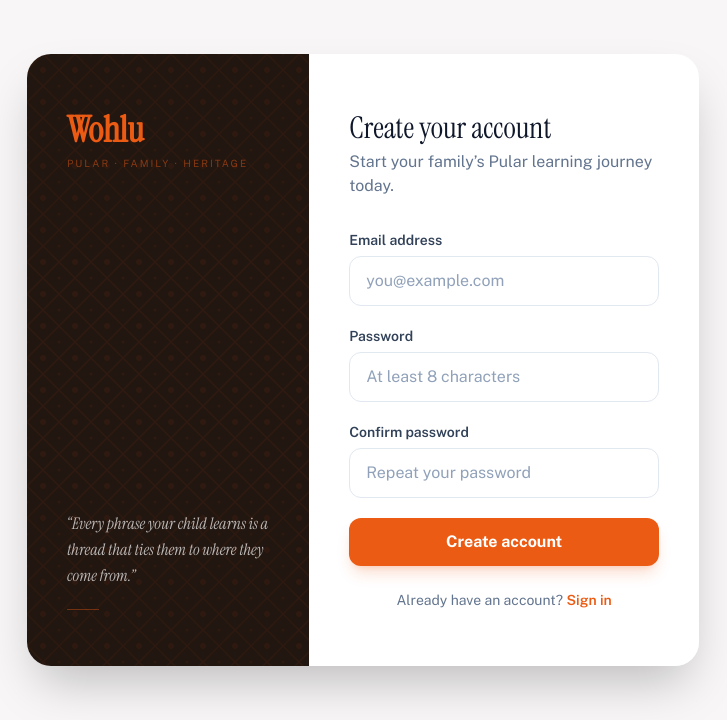
Test: SignupPage › shows continue button in privacy commitment step
The width and height of the screenshot is (727, 720).
Type "user@example.com" into the field labelled "Email address" at (504, 281), box [349,256,659,306]
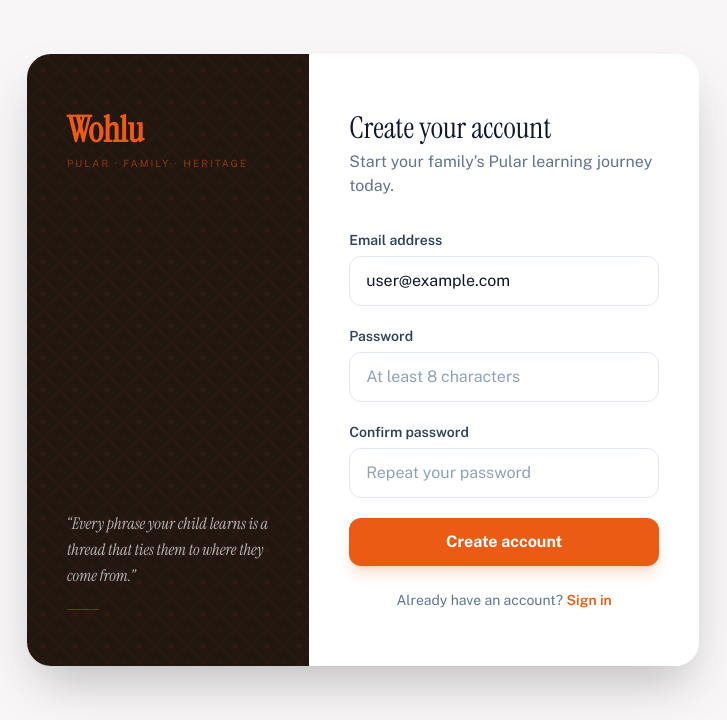
Type "password123" into the password field labelled "Password" at (504, 377), box [349,352,659,402]
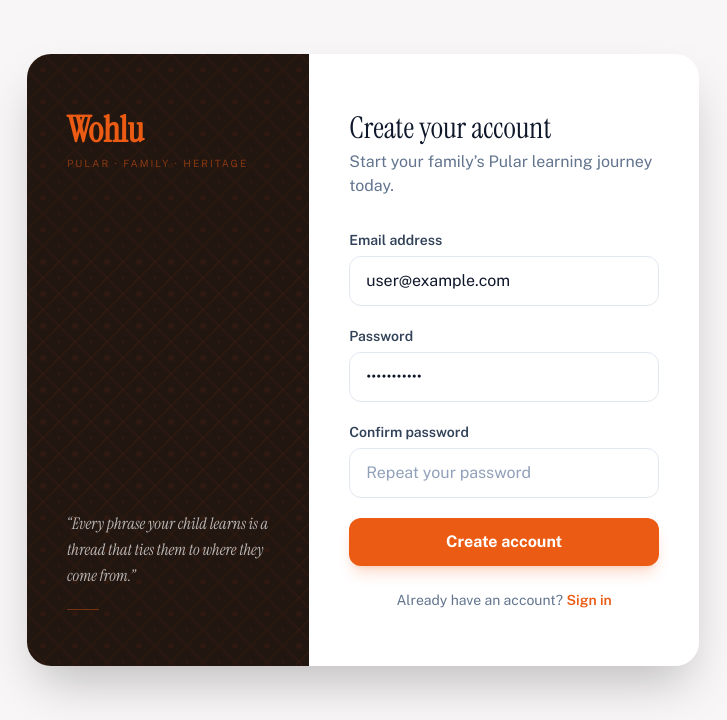
Type "password123" into the password field labelled "Confirm password" at (504, 473), box [349,448,659,498]
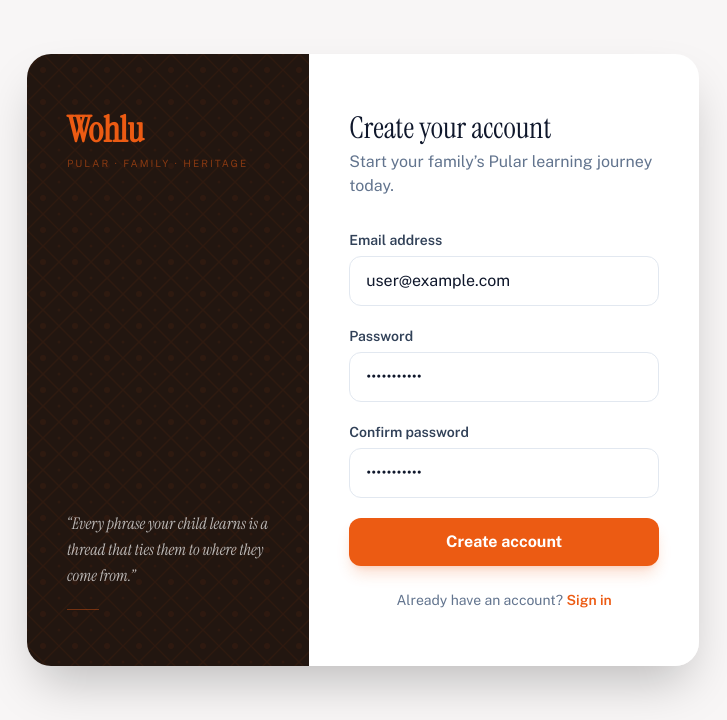
Click the button "Create account" at (504, 542), box [349,518,659,566]
(page scrolled)
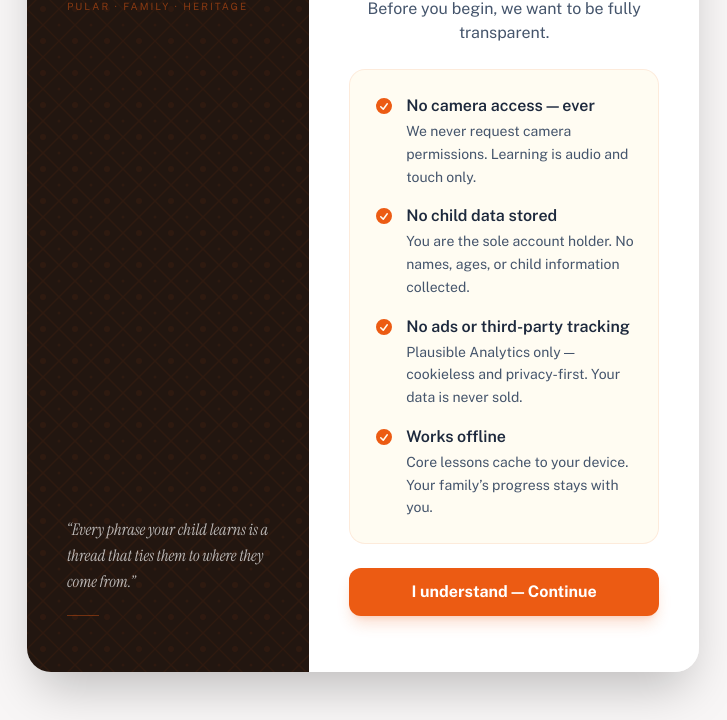
Now the button "I understand — Continue" is shown, box [349,568,659,616]
